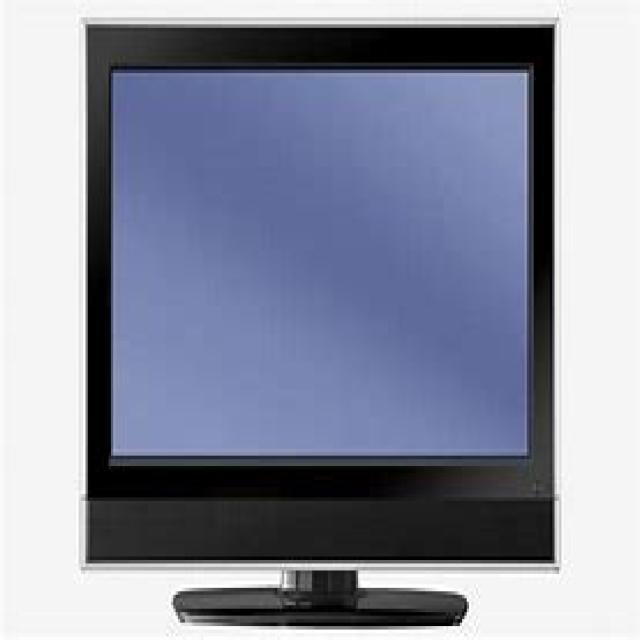tv: (79, 14, 562, 626)
